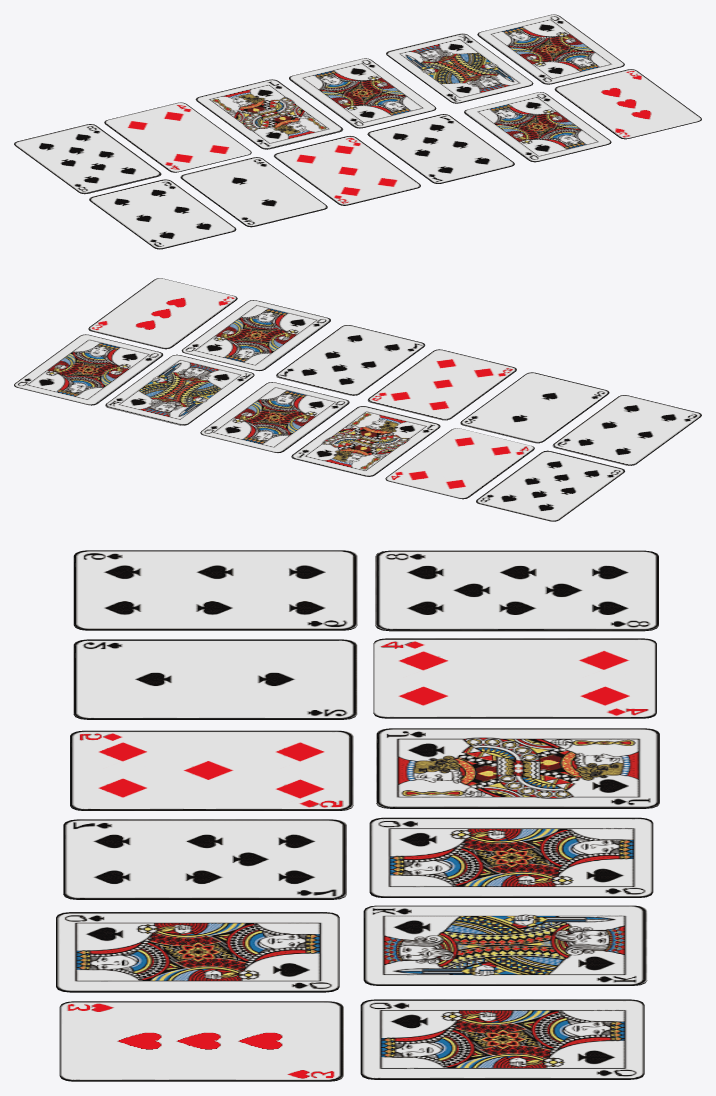
Rendered from Cartas.fbx.
3 renders of one model, top to bottom at view 1: azimuth 30°, elevation 25°; view 2: azimuth 150°, elevation 25°; view 3: azimuth 270°, elevation 25°, orthographic. The views are drawn at different scales.
Visible parts, largest first — view 1: carta.003, carta.001, carta.010, carta.006, carta.005, carta.008, carta.004, carta, carta.002, carta.007, carta.011, carta.009; view 2: carta.008, carta.007, carta.011, carta.003, carta.009, carta.005, carta.010, carta, carta.002, carta.001, carta.004, carta.006; view 3: carta.002, carta.005, carta.010, carta.006, carta.007, carta.011, carta.004, carta.003, carta.001, carta, carta.009, carta.008.
Part boxes in pixels (<box>): carta.003: <box>104,102,251,172</box>; carta.001: <box>195,79,343,149</box>; carta.010: <box>477,14,624,84</box>; carta.006: <box>89,179,236,249</box>; carta.005: <box>386,33,533,103</box>; carta.008: <box>273,135,420,205</box>; carta.004: <box>289,58,436,128</box>; carta: <box>464,92,611,162</box>; carta.002: <box>14,124,161,194</box>; carta.007: <box>180,157,327,227</box>; carta.011: <box>554,69,701,139</box>; carta.009: <box>367,114,514,183</box>; carta.008: <box>367,349,516,420</box>; carta.007: <box>460,372,609,443</box>; carta.011: <box>88,278,237,349</box>; carta.003: <box>385,428,534,499</box>; carta.009: <box>276,325,425,395</box>; carta.005: <box>105,354,254,425</box>; carta.010: <box>14,334,163,405</box>; carta: <box>181,300,330,370</box>; carta.002: <box>476,450,624,521</box>; carta.001: <box>291,406,440,476</box>; carta.004: <box>200,382,349,452</box>; carta.006: <box>552,395,701,465</box>; carta.002: <box>375,550,658,631</box>; carta.005: <box>363,905,647,985</box>; carta.010: <box>360,999,644,1079</box>; carta.006: <box>73,550,357,630</box>; carta.007: <box>73,639,357,719</box>; carta.011: <box>59,1001,343,1081</box>; carta.004: <box>369,817,653,897</box>; carta.003: <box>373,638,656,718</box>; carta.001: <box>376,728,659,808</box>; carta: <box>56,912,339,992</box>; carta.009: <box>63,819,346,899</box>; carta.008: <box>70,730,353,810</box>.
Bounding box in the file's own units: 325 × 2.08 × 156.
